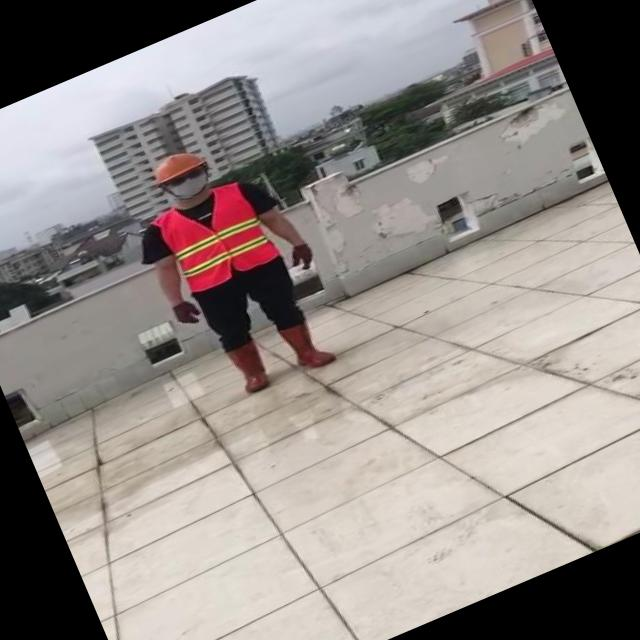hard_hat: (145, 142, 208, 188)
safety_vest: (146, 174, 286, 301)
vehicle: (104, 111, 364, 416)
work_boots: (275, 309, 340, 376), (220, 334, 278, 398)
